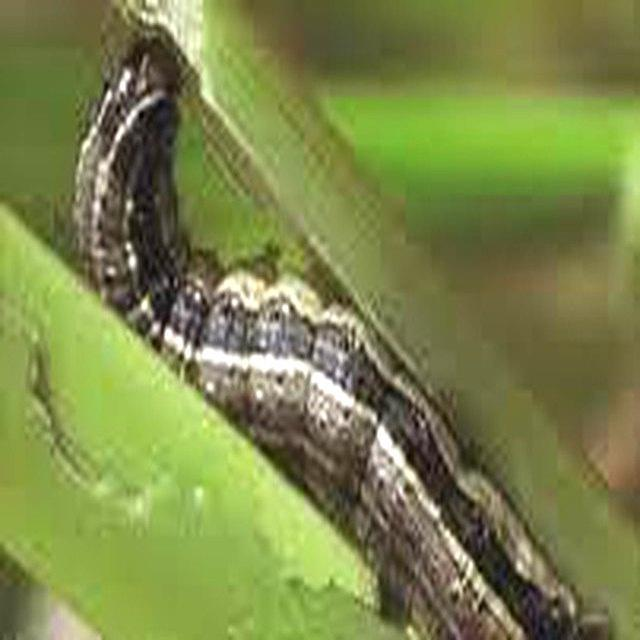worm: (66, 20, 612, 640)
